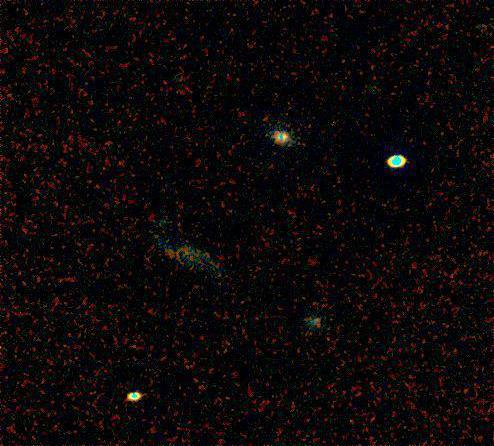star: (182, 221, 212, 251)
